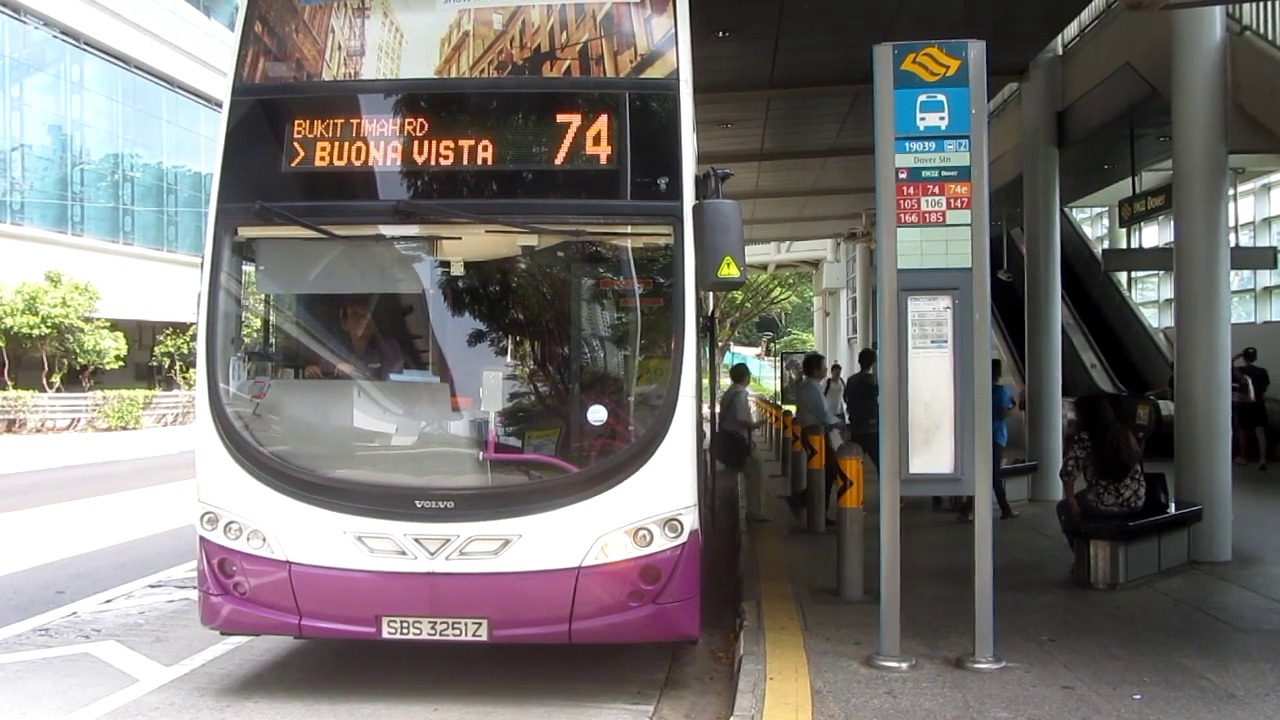bus panel: (278, 107, 624, 176)
